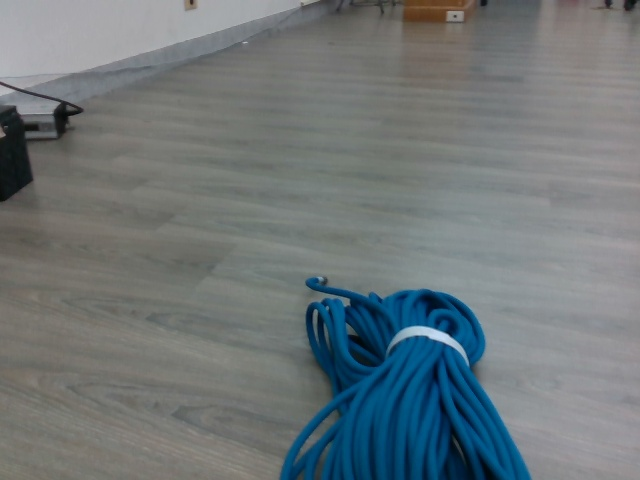rope: (283, 268, 533, 480)
